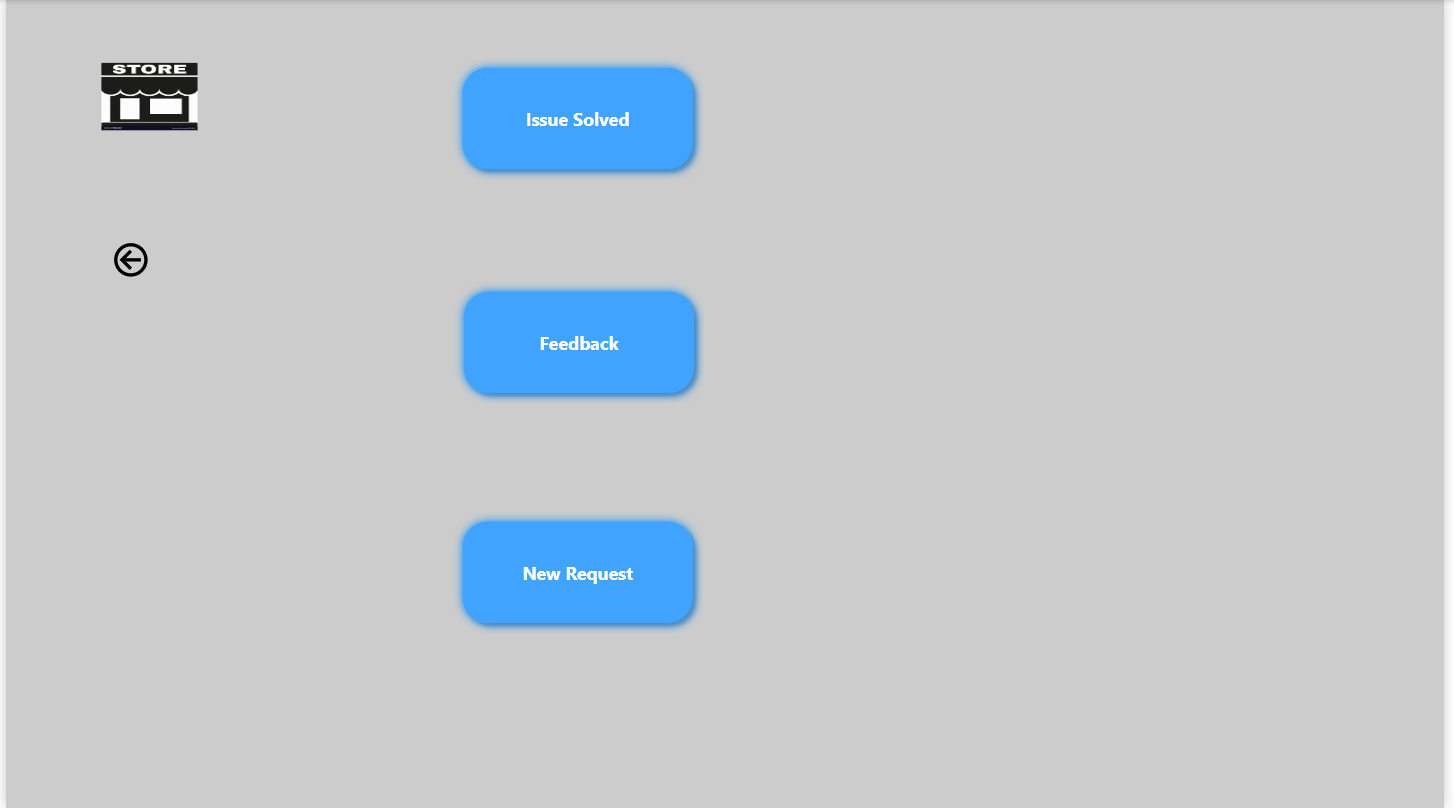

Layout of this report page (visuals, bound fields, positions):
{"tool":"powerbi","page":{"name":"Support","canvas":[1280,720],"ordinal":4},"visuals":[{"type":"shape","box":[396.9,50.7,223.2,108.6],"z":0},{"type":"shape","box":[398.1,250.9,223.2,108.6],"z":1000},{"type":"shape","box":[396.9,454.8,223.2,108.6],"z":2000},{"type":"actionButton","box":[91.7,211.1,100.1,39.8],"z":3000},{"type":"image","box":[79.6,50.7,95.3,70],"z":4000}]}

Visuals, with their boxes in screenshot pixels (x1, y1, x2, y2), scaled from the page's 1280x720 canvas onto the 1454x808 screenshot:
shape: <bbox>451, 57, 704, 179</bbox>
shape: <bbox>452, 282, 706, 403</bbox>
shape: <bbox>451, 510, 704, 632</bbox>
actionButton: <bbox>104, 237, 218, 282</bbox>
image: <bbox>90, 57, 199, 135</bbox>
